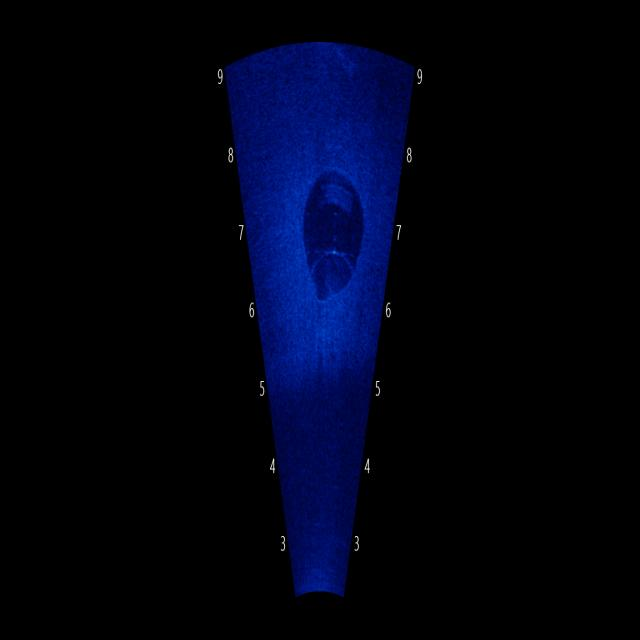circle: (290, 148, 375, 328)
